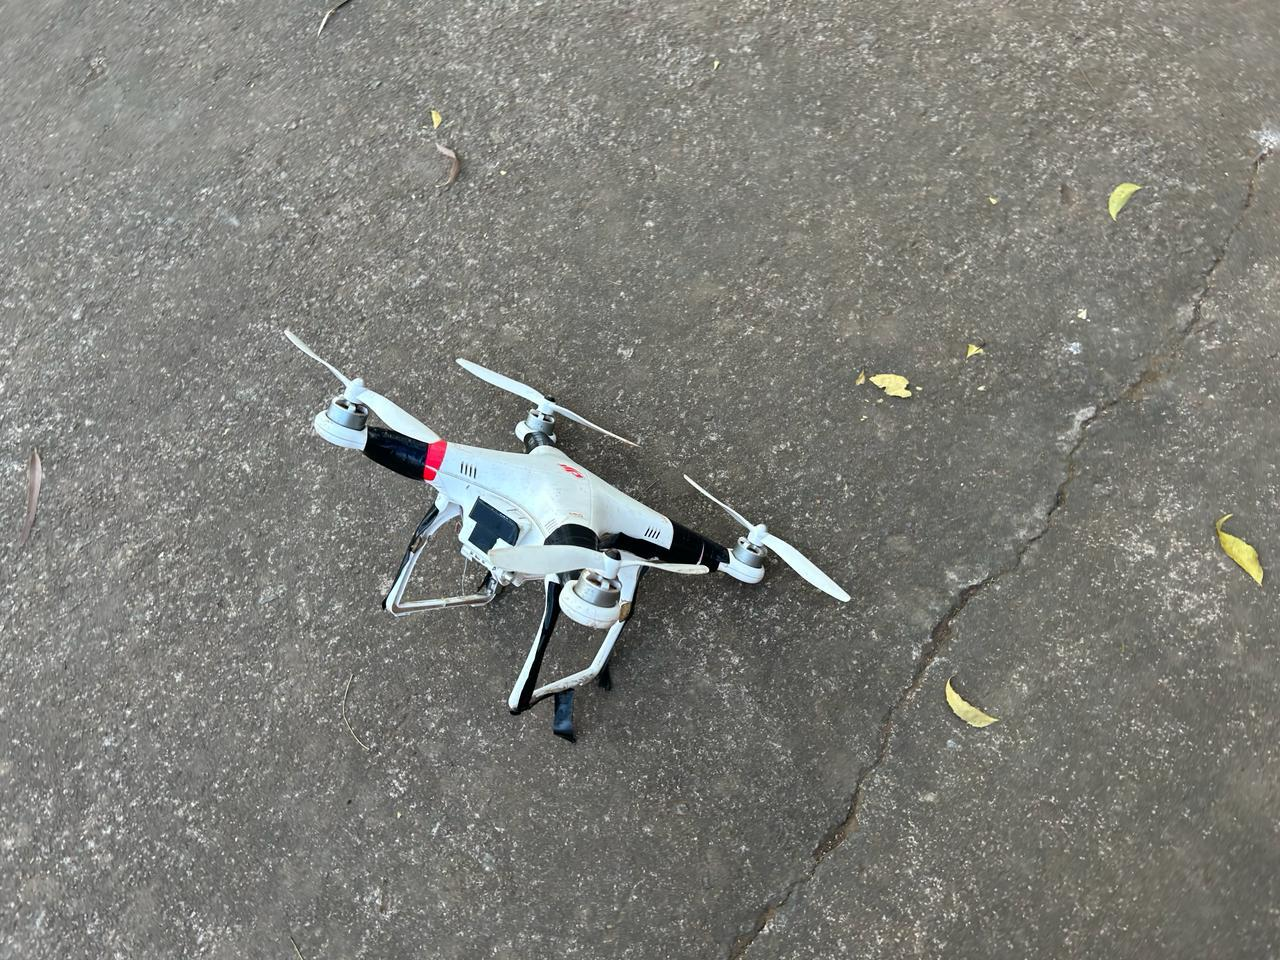drone: (150, 234, 916, 801)
